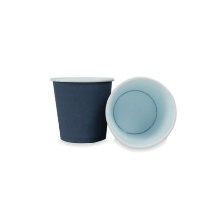paper_cup: (101, 70, 181, 153), (46, 72, 117, 148)
